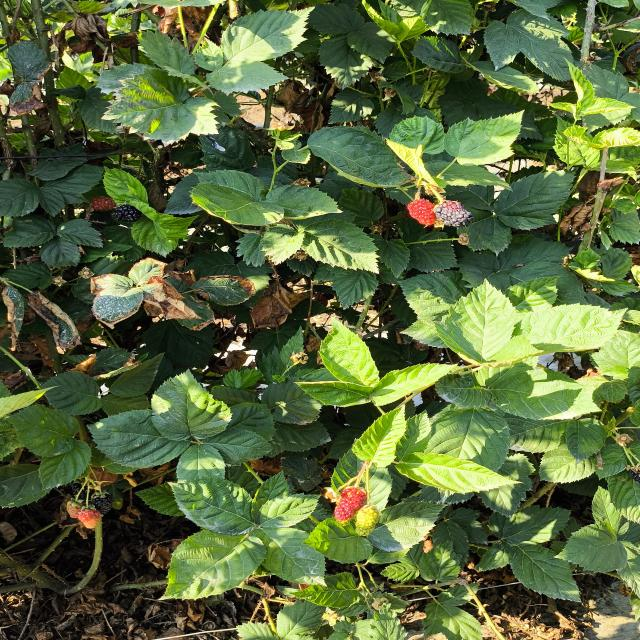maduro: (114, 204, 142, 222), (91, 494, 113, 515)
marron: (434, 200, 473, 227)
naranja: (335, 487, 367, 522), (407, 198, 435, 226), (77, 509, 101, 529), (91, 196, 117, 211), (66, 501, 79, 518)
verde: (354, 504, 380, 536)
